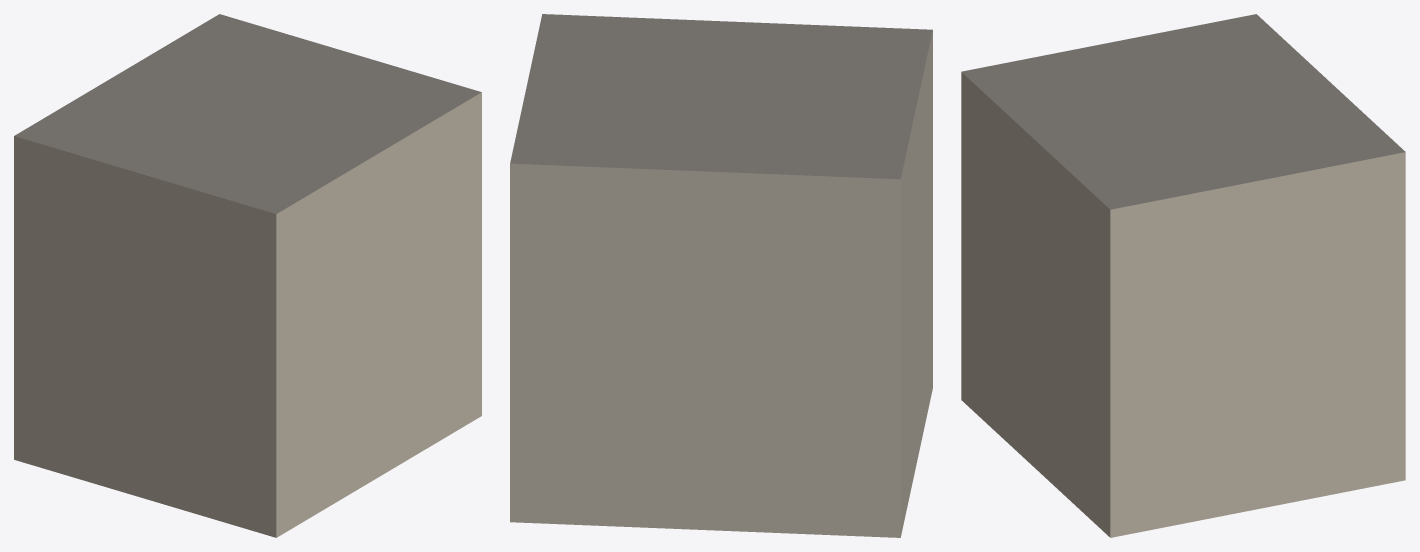
3 renders of one model, left to right at view 1: azimuth 30°, elevation 25°; view 2: azimuth 150°, elevation 25°; view 3: azimuth 270°, elevation 25°, orthographic. The views are drawn at different scales.
Parts seen in each view (by area): view 1: HP-w1327395986; view 2: HP-w1327395986; view 3: HP-w1327395986.
Part boxes in pixels (x1=…): HP-w1327395986: x1=14, y1=14, x2=481, y2=537; HP-w1327395986: x1=510, y1=14, x2=932, y2=537; HP-w1327395986: x1=961, y1=14, x2=1405, y2=537.
Bounding box in the file's own units: 23.02 × 18 × 22.1.
